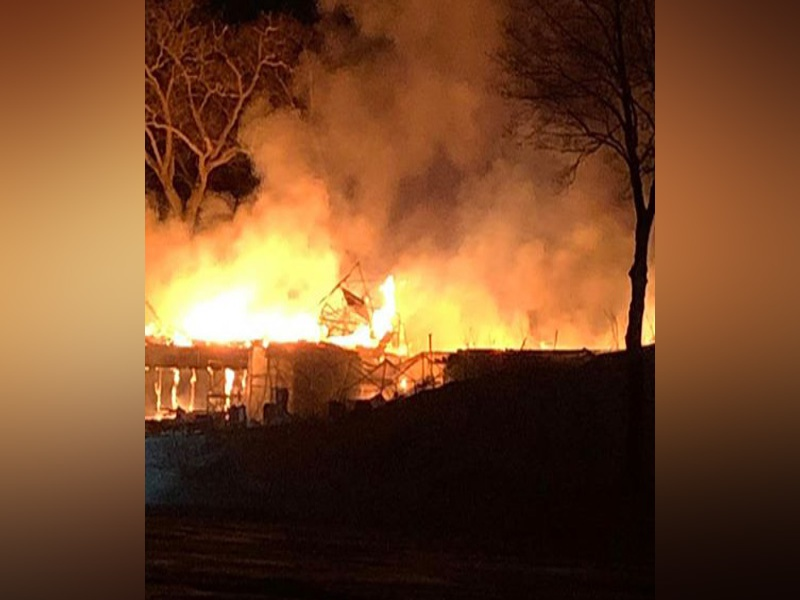fire: (169, 284, 319, 343), (316, 266, 411, 351)
